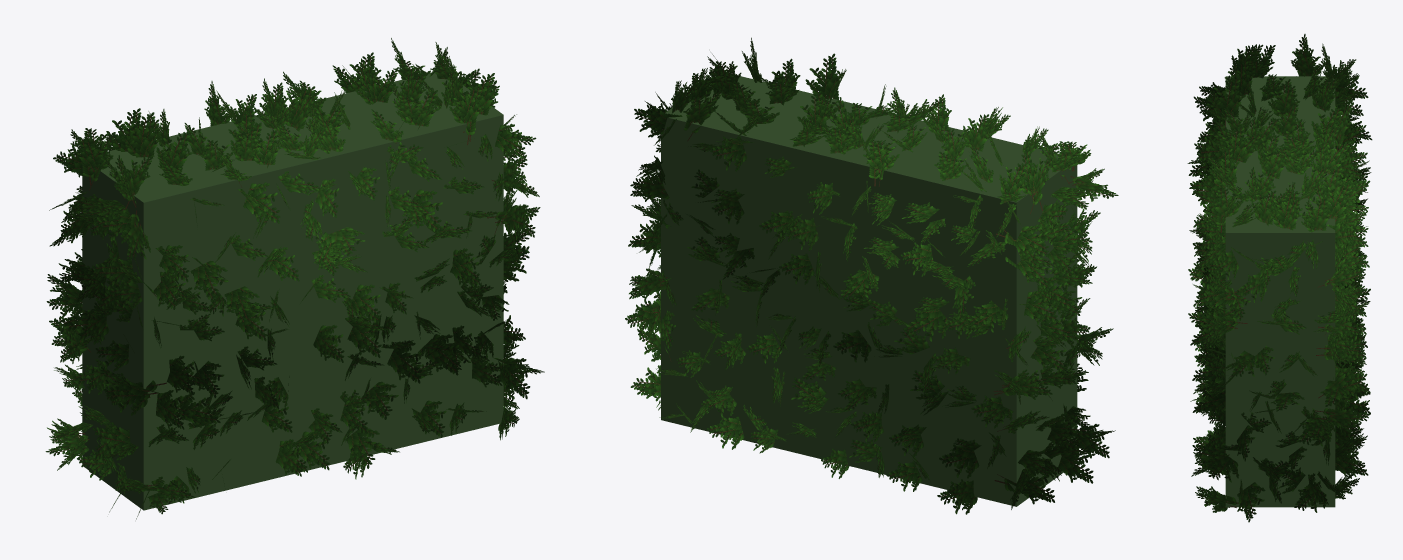
Rendered from hedge_block.glb.
The picture shows the model from 3 angles, left to right: view 1: azimuth 30°, elevation 25°; view 2: azimuth 150°, elevation 25°; view 3: azimuth 270°, elevation 25°; orthographic projection. The views are drawn at different scales.
Parts seen in each view (by area): view 1: hedge_block; view 2: hedge_block; view 3: hedge_block.
Part boxes in pixels (x1,y1,x2,y2): hedge_block: (45, 38, 544, 519); hedge_block: (625, 37, 1118, 514); hedge_block: (1187, 34, 1372, 522).
Size of the model in its own units: 3.63 by 3.03 by 1.64.
Materials: 2 (1 with a texture image).
